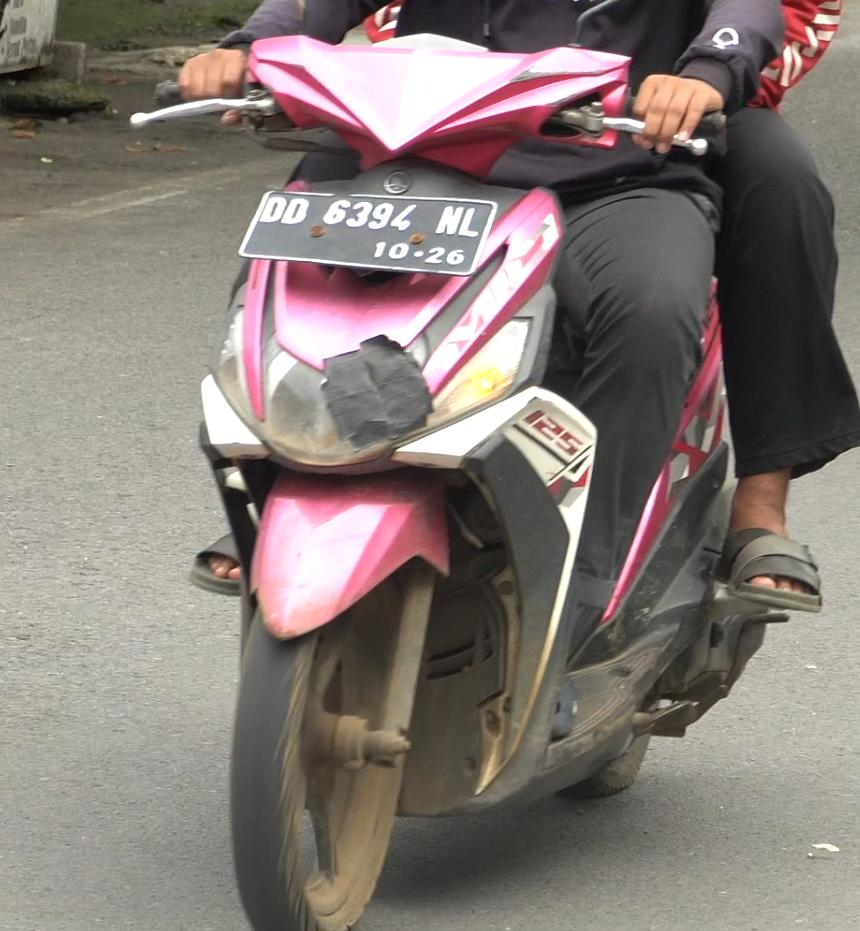number-plate: (233, 187, 492, 275)
